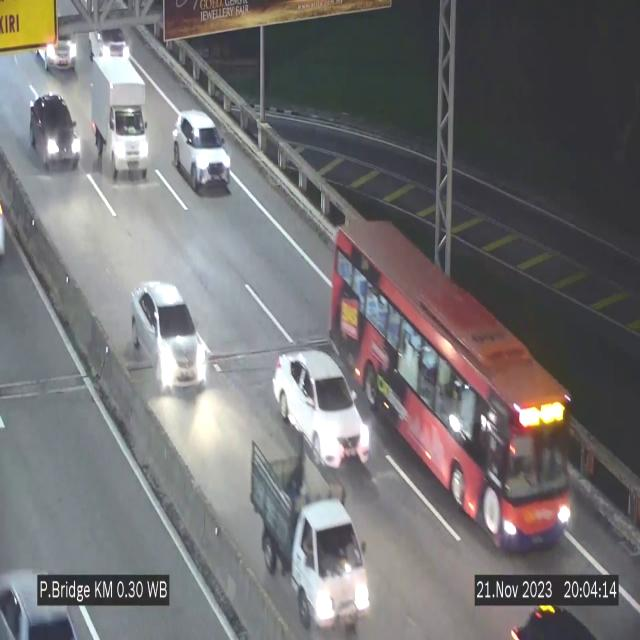Bus: (330, 218, 572, 554)
Car: (274, 351, 369, 468), (131, 282, 207, 391), (173, 109, 231, 192), (29, 94, 82, 177)
Truck: (251, 424, 368, 635), (90, 53, 150, 184)
